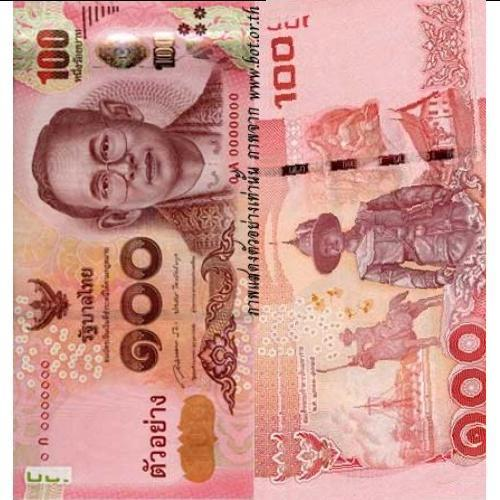100BahtTai: (260, 0, 486, 500)
